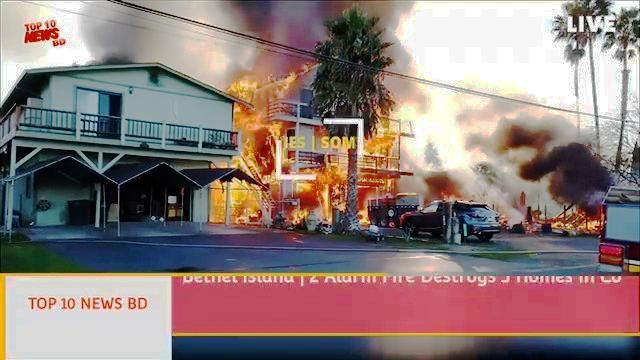fire: (280, 175, 339, 215), (219, 162, 258, 221), (222, 76, 293, 98), (355, 129, 392, 155), (235, 109, 267, 133)
smoke: (488, 119, 605, 200), (202, 1, 329, 40), (92, 6, 159, 57)
